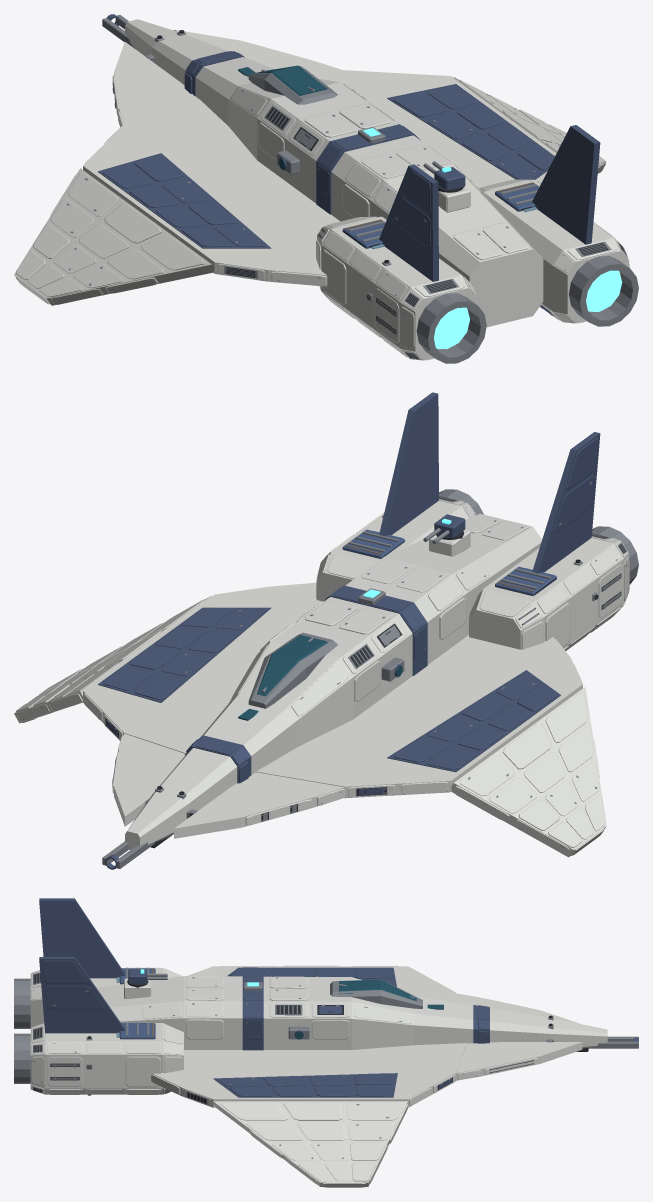
The model's file is interceptor_t5.glb.
3 views of the same model, one above another, from view 1: azimuth 30°, elevation 25°; view 2: azimuth 150°, elevation 25°; view 3: azimuth 270°, elevation 25° (orthographic). The views are drawn at different scales.
Parts seen in each view (by area): view 1: FleetHull, mesh_pd_yaw_1; view 2: FleetHull; view 3: FleetHull.
Boxes of the visible parts, bbox=[...] form: FleetHull: bbox=[14, 14, 638, 363]; mesh_pd_yaw_1: bbox=[434, 167, 465, 190]; FleetHull: bbox=[14, 392, 638, 869]; FleetHull: bbox=[14, 898, 638, 1187].
Bounding box in the file's own units: 22.88 × 8.37 × 29.8.
